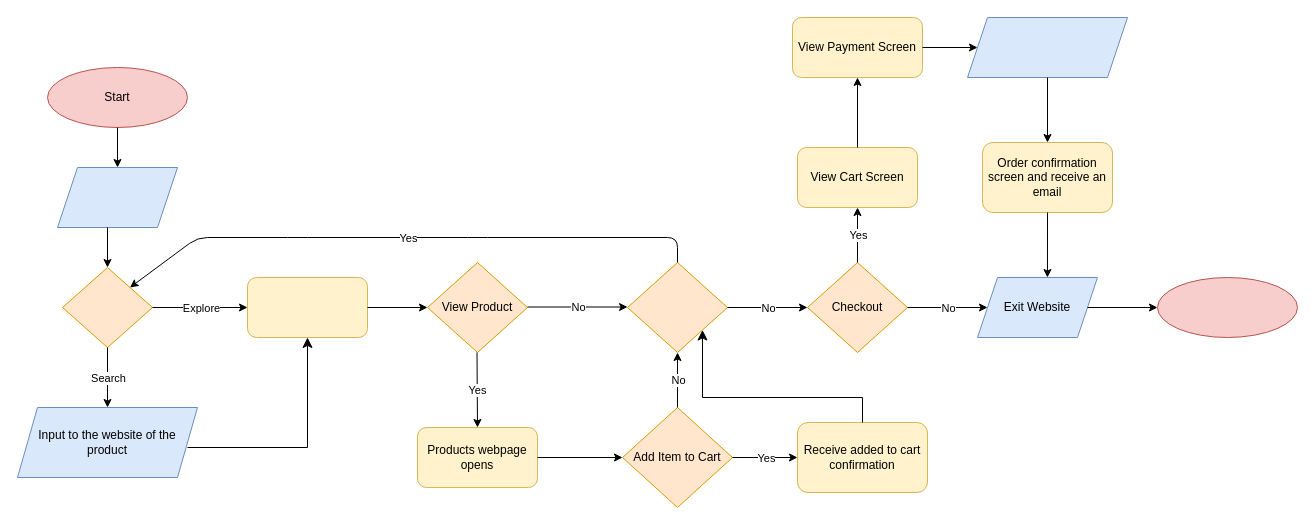
Some shapes in this 1315 by 525 pixel diagram are drawn without their labels. Here are the shapes that lost their labels. From the top down, the centre of each, then its label:
the point at 1047,47: Input their payment information
the point at 117,197: Enter Website
the point at 107,307: Search or Explore
the point at 307,307: Look over Products
the point at 677,307: Continue Shopping
the point at 1227,307: End
